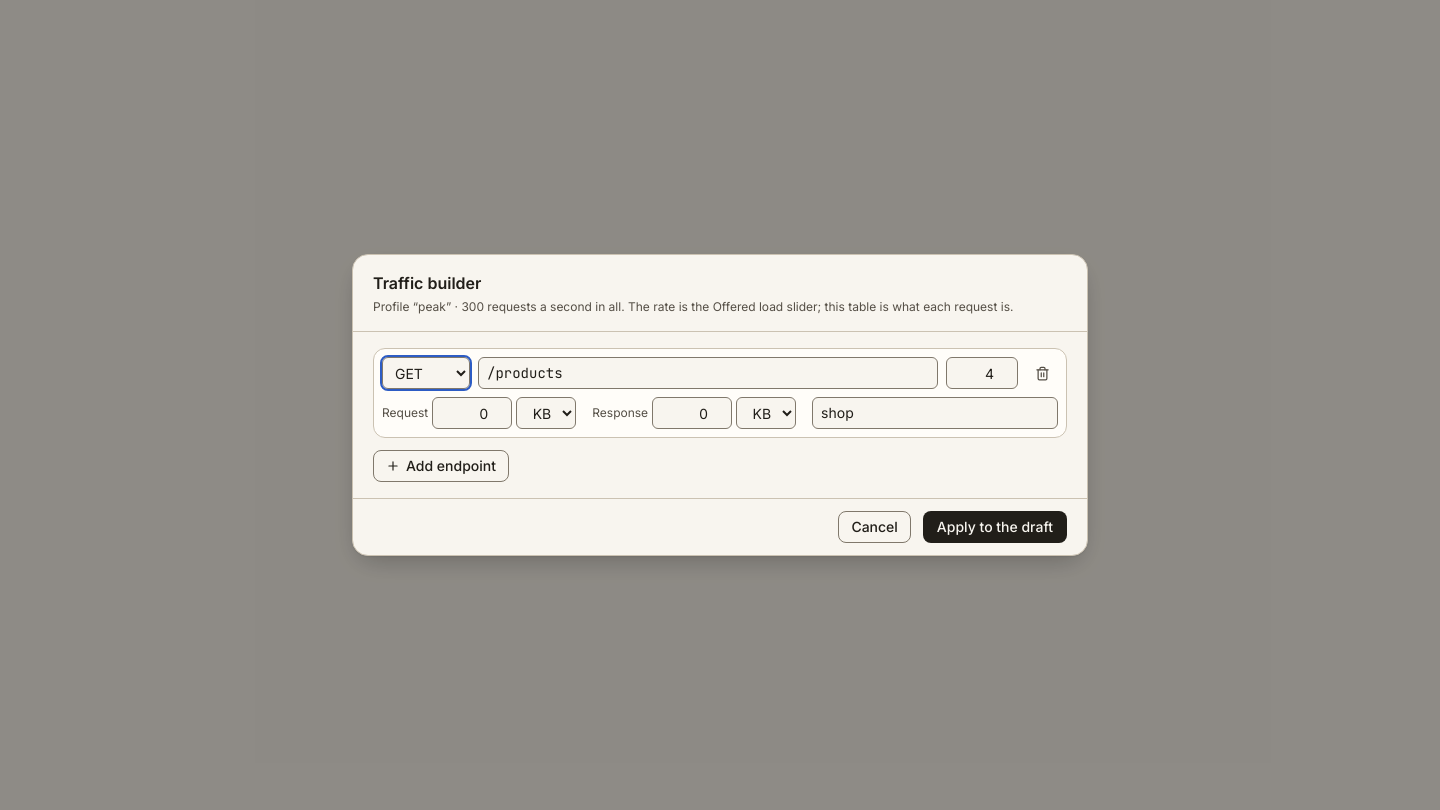
Test: what_is_wrong_is_said_and_apply_waits
Replace the text in the field named "Path of endpoint 1" with "oops" at (708, 373), box [478,357,938,389]
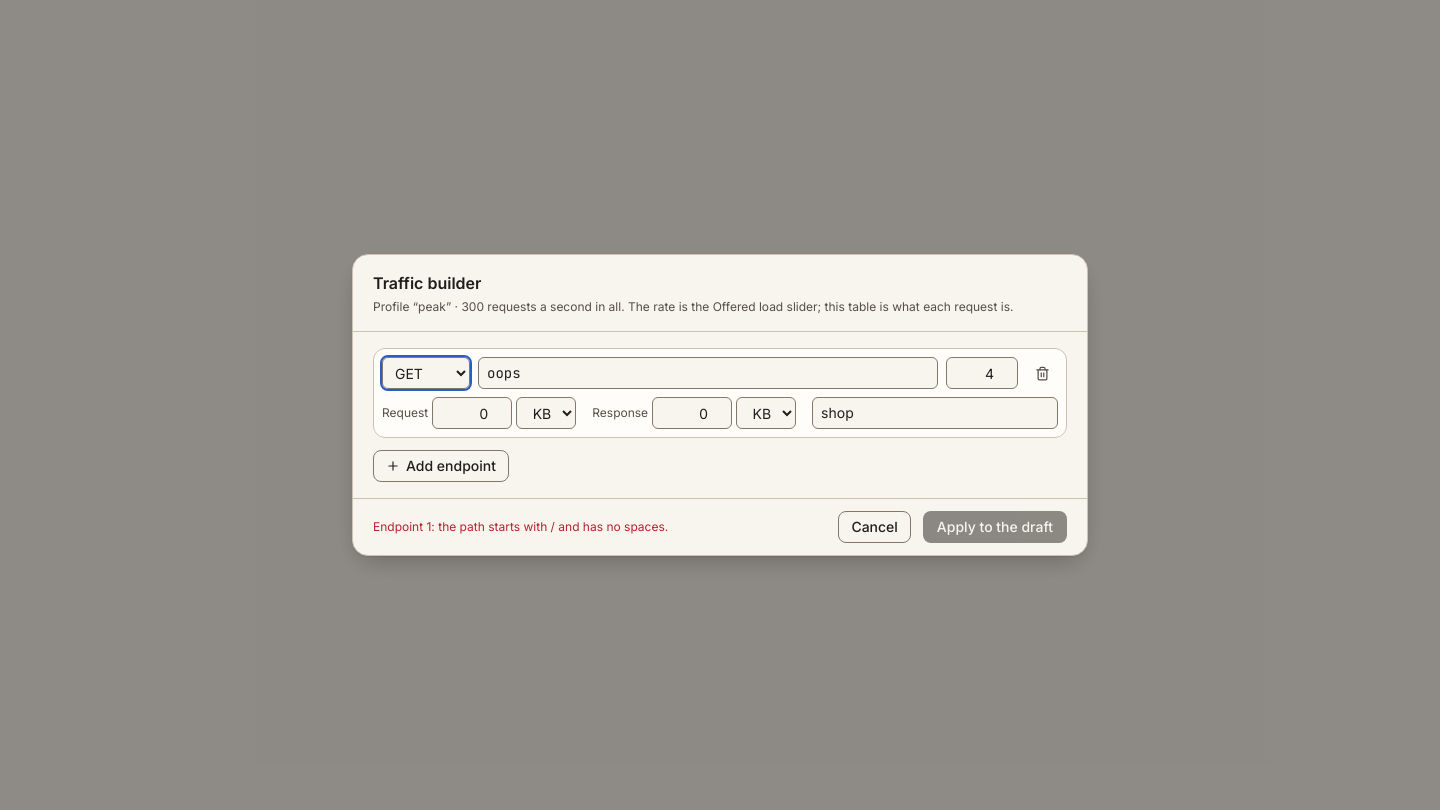
Check: the list item "Endpoint 1: the path starts with / and has no spaces." is shown, box [373,519,668,534]
Check: the button "Apply to the draft" is disabled, box [923,511,1067,543]
